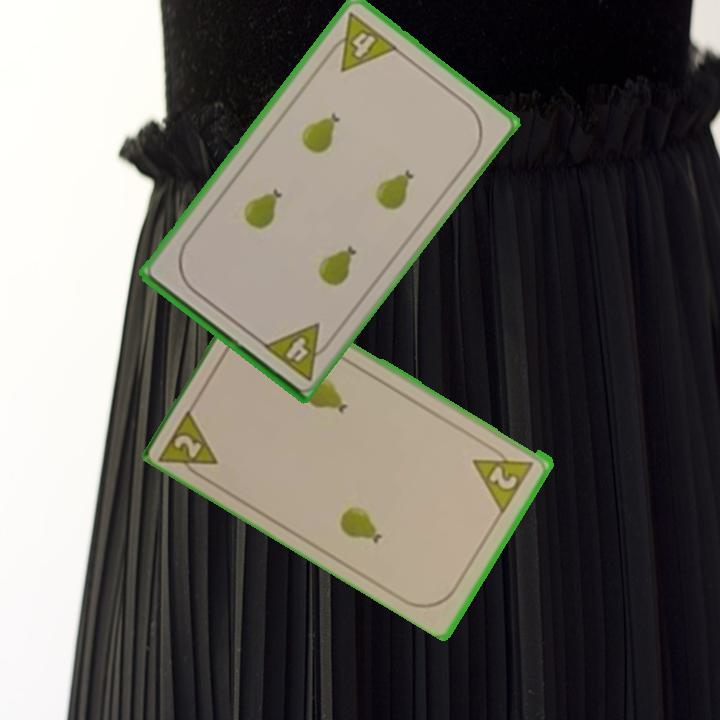2p: (156, 403, 222, 485), (486, 462, 521, 493)
4p: (320, 8, 401, 75), (259, 319, 337, 383)
